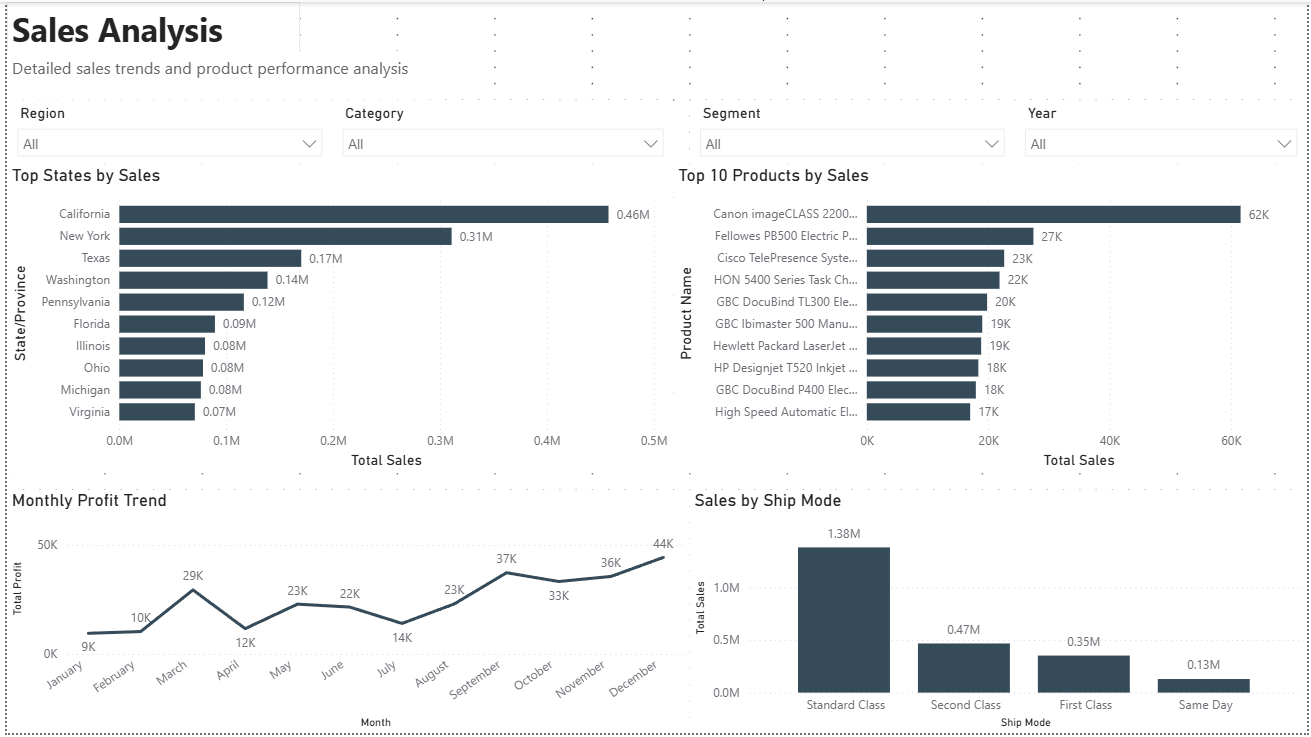

The dashboard page shown, as its layout file describes it:
{"tool":"powerbi","page":{"name":"Sales Analysis","canvas":[1280,720],"ordinal":1},"visuals":[{"type":"textbox","box":[0,0,288,64],"z":0},{"type":"textbox","box":[0,48,416,48],"z":1000},{"type":"slicer","fields":{"Values":["Orders.Region"]},"box":[0,96,320,64],"z":2000},{"type":"slicer","fields":{"Values":["Orders.Category"]},"box":[320,96,336,64],"z":3000},{"type":"slicer","fields":{"Values":["Orders.Segment"]},"box":[672,96,320,64],"z":4000},{"type":"slicer","fields":{"Values":["Orders.Order Date.Variation.Date Hierarchy.Year"]},"box":[992,96,288,64],"z":5000},{"type":"clusteredBarChart","title":"Top States by Sales","fields":{"Category":["Orders.State/Province"],"Y":["Orders.Total Sales"]},"box":[0,160,656,304],"z":6000},{"type":"clusteredBarChart","title":"Top 10 Products by Sales","fields":{"Category":["Orders.Product Name"],"Y":["Orders.Total Sales"]},"box":[656,160,624,304],"z":7000},{"type":"lineChart","title":"Monthly Profit Trend","fields":{"Category":["Orders.Order Date.Variation.Date Hierarchy.Month"],"Y":["Orders.Total Profit"]},"box":[0,480,672,240],"z":8000},{"type":"clusteredColumnChart","title":"Sales by Ship Mode","fields":{"Category":["Orders.Ship Mode"],"Y":["Orders.Total Sales"]},"box":[672,480,608,240],"z":9000}]}

Visuals, with their boxes in screenshot pixels (x1, y1, x2, y2), scaled from the page's 1280x720 canvas onto the 1311x737 screenshot:
textbox: region(0, 0, 295, 66)
textbox: region(0, 49, 426, 98)
slicer - Orders.Region: region(0, 98, 328, 164)
slicer - Orders.Category: region(328, 98, 672, 164)
slicer - Orders.Segment: region(688, 98, 1016, 164)
slicer - Orders.Order Date.Variation.Date Hierarchy.Year: region(1016, 98, 1310, 164)
"Top States by Sales" clusteredBarChart: region(0, 164, 672, 475)
"Top 10 Products by Sales" clusteredBarChart: region(672, 164, 1310, 475)
"Monthly Profit Trend" lineChart: region(0, 491, 688, 736)
"Sales by Ship Mode" clusteredColumnChart: region(688, 491, 1310, 736)
